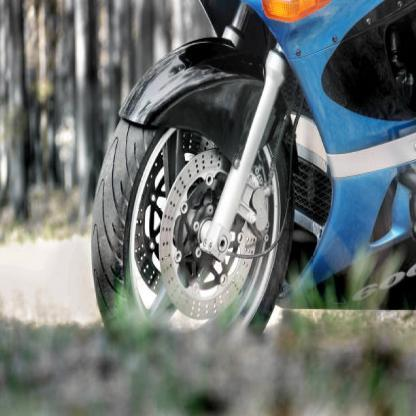Motorcycle: (86, 0, 415, 358)
